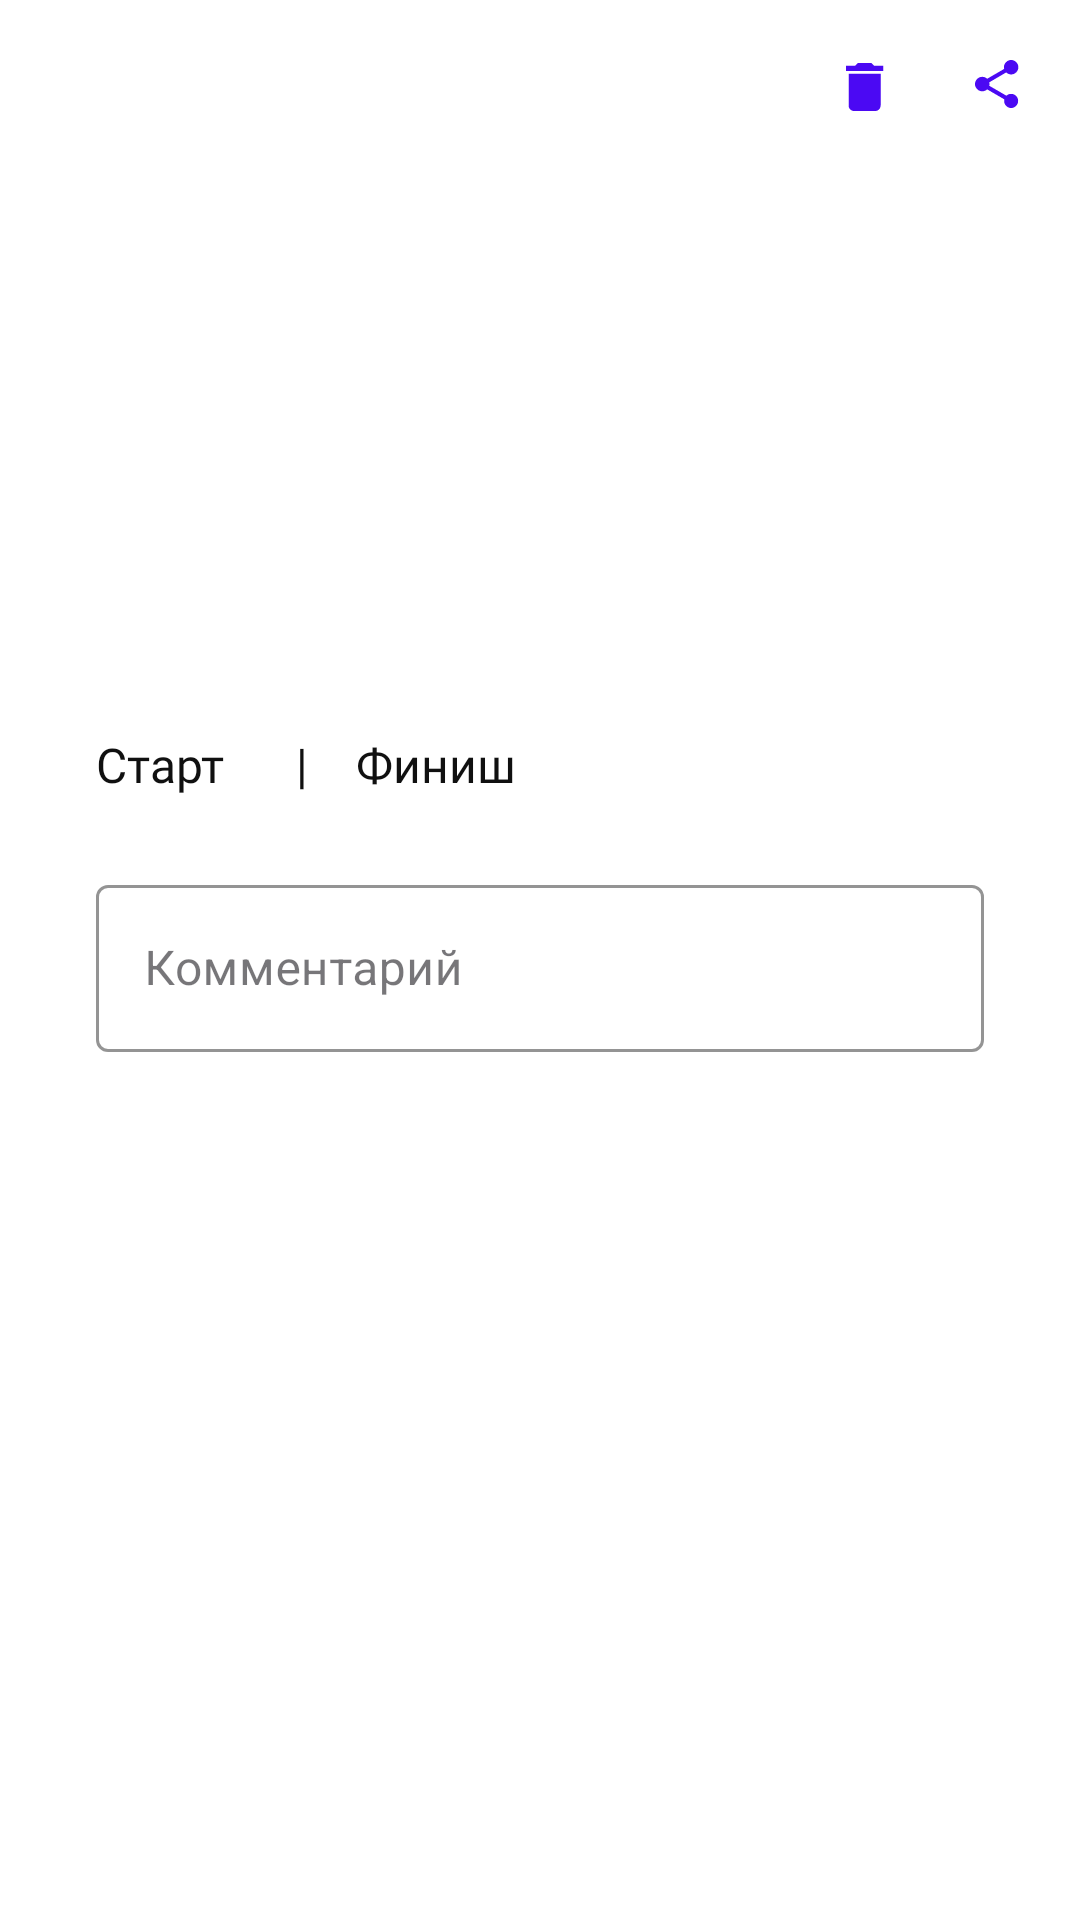

Where to tap for icons on this 1080px x 1920px app screen, as (x=x, y=y):
share: (x=997, y=84)
trash: (x=865, y=87)
